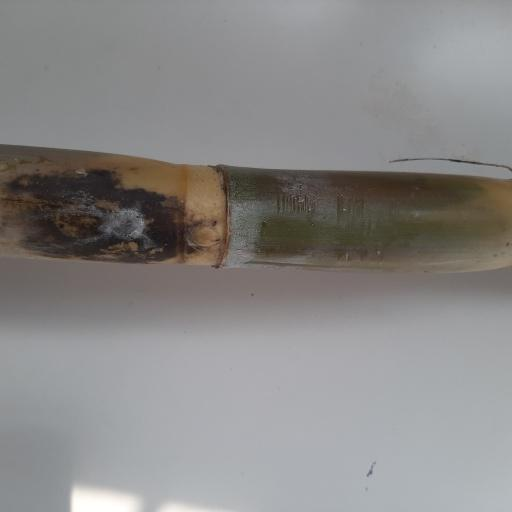Bud: (184, 223, 222, 249)
